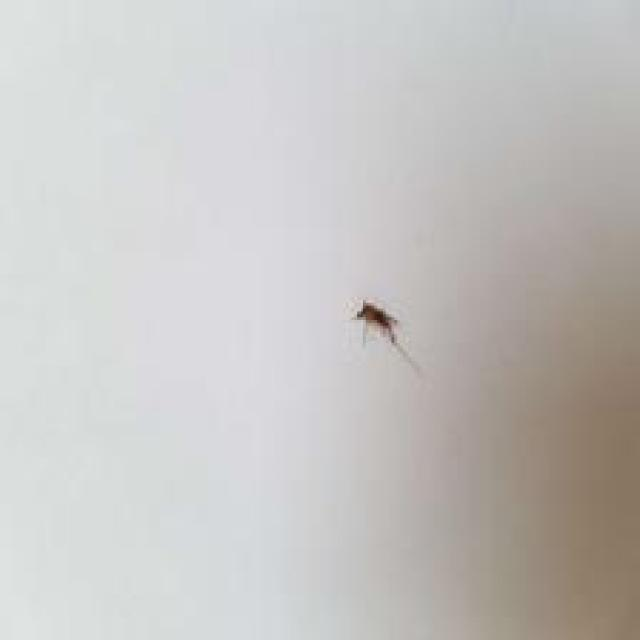Culex: (351, 297, 423, 374)
